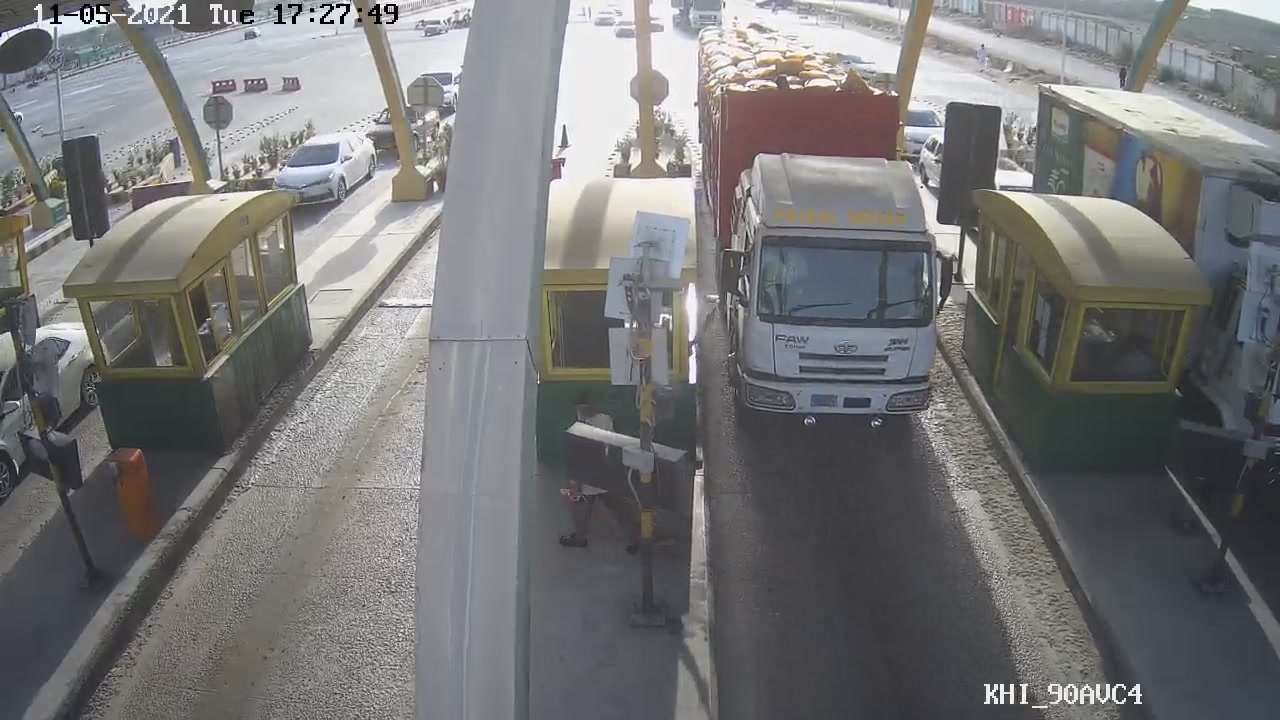F6: (698, 19, 933, 435)
